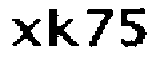5: (114, 5, 152, 52)
7: (82, 6, 114, 50)
k: (46, 4, 83, 51)
x: (9, 17, 42, 51)
